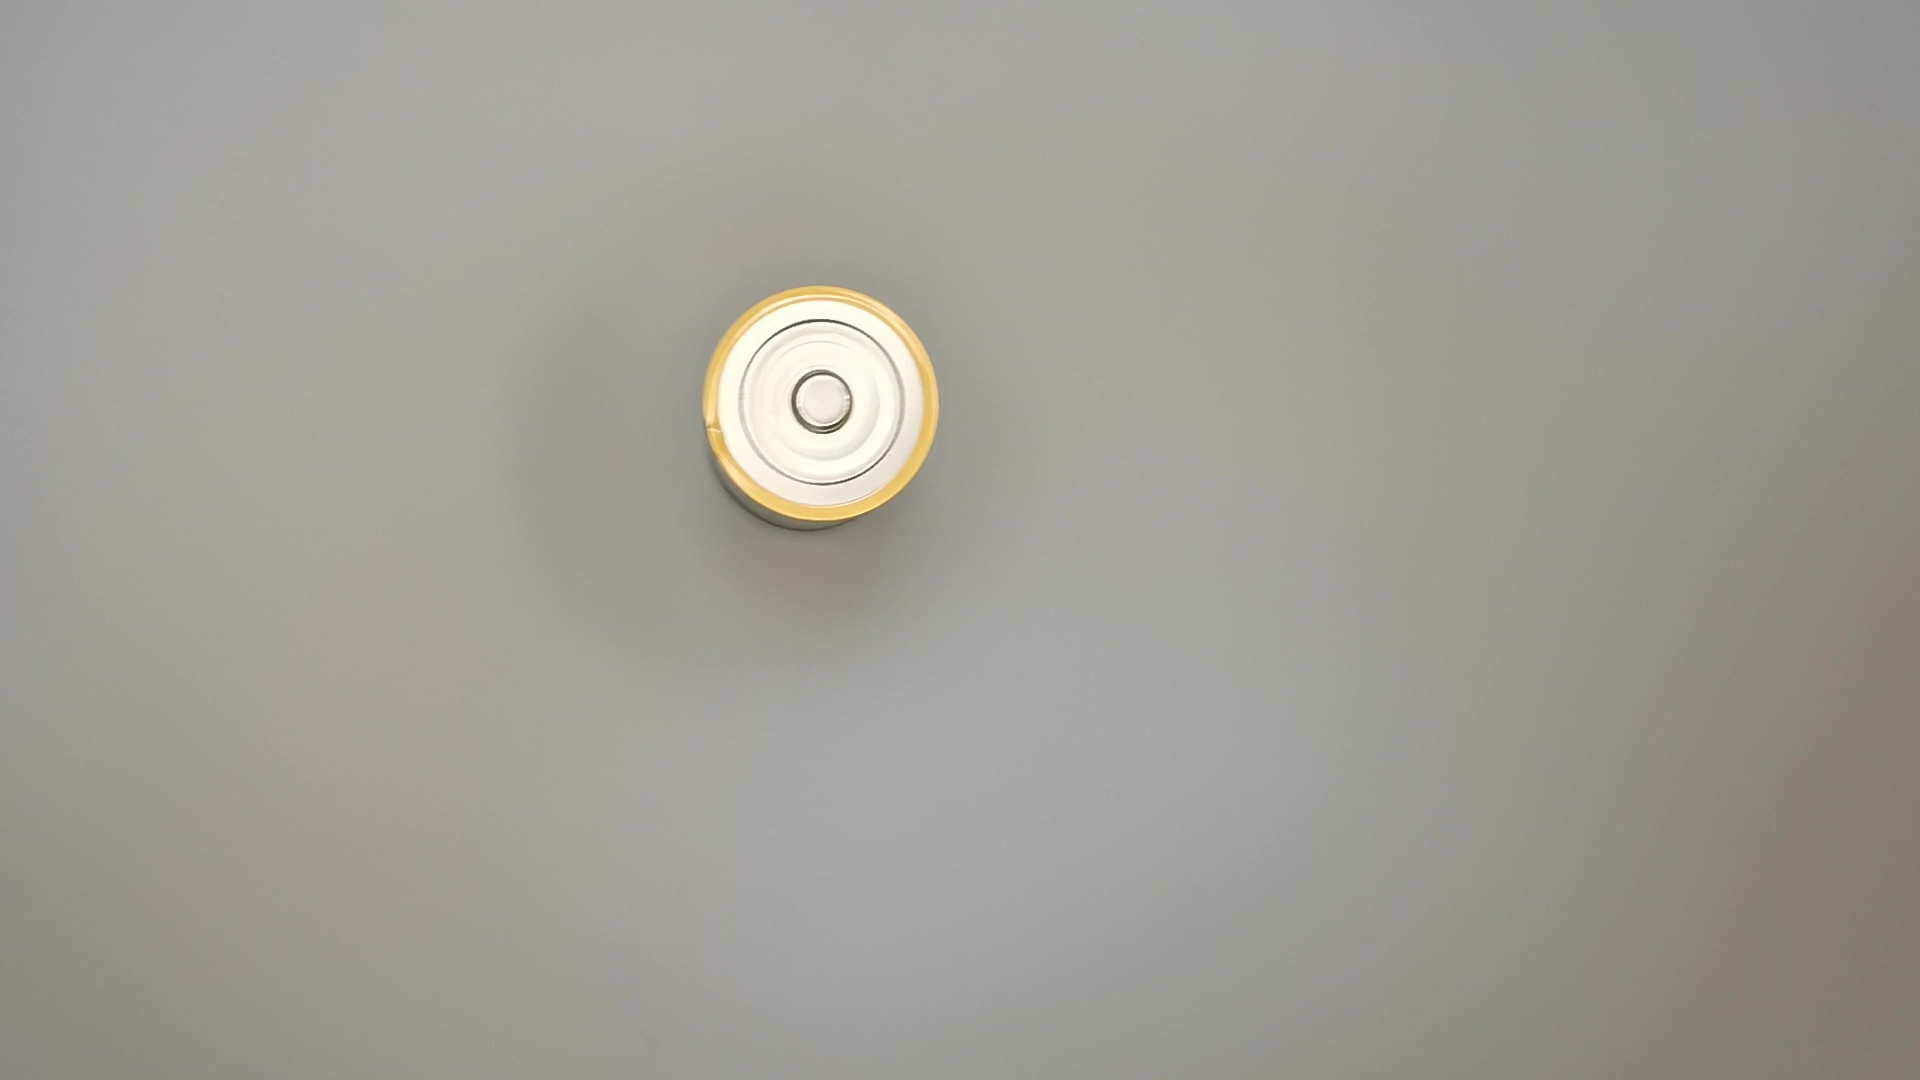battery: (696, 278, 948, 542)
